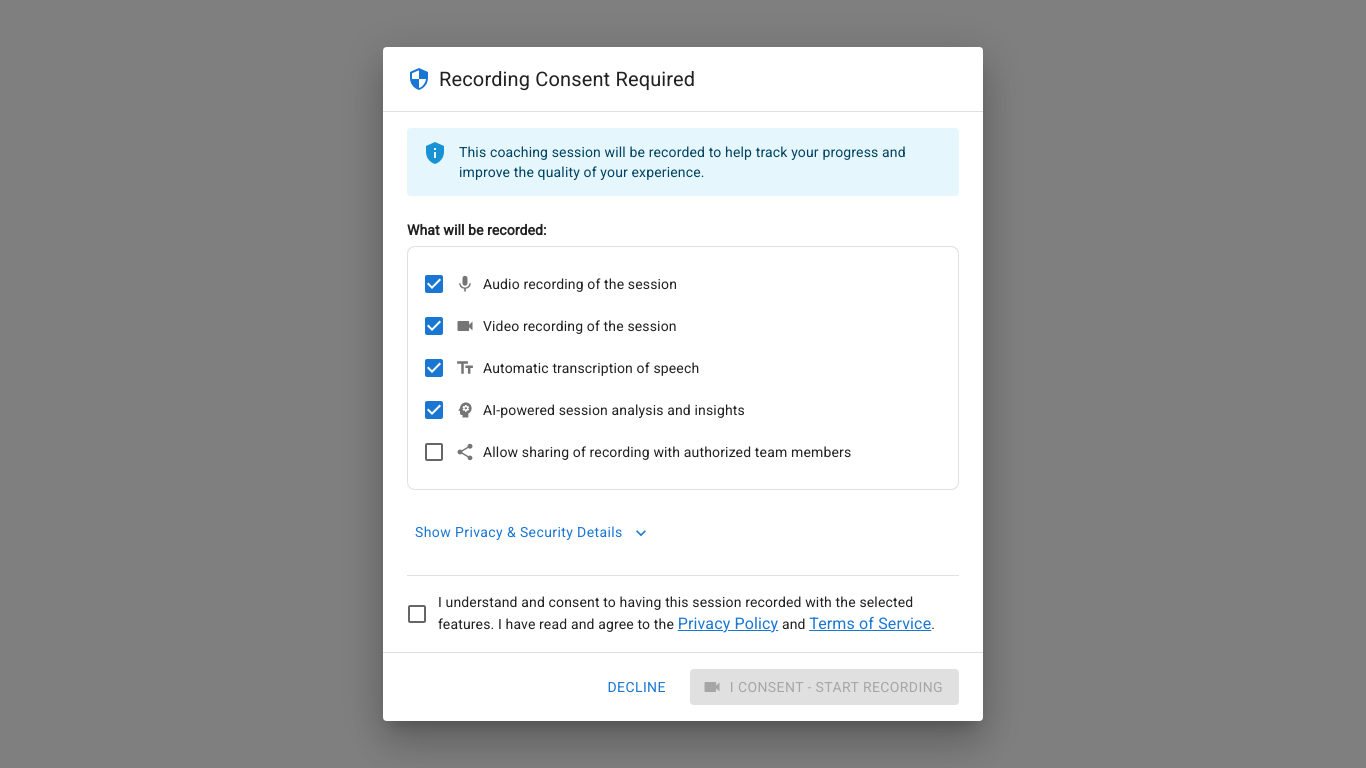
RecordingConsentDialog › consent button is disabled until agreement checkbox is checked
The image size is (1366, 768).
expect the button "I Consent - Start Recording" is disabled: met, box [690,669,959,706]
// Find and click the agreement checkbox
Click the checkbox labelled "I understand and consent". click: [670, 614]
box: [396,592,943,636]
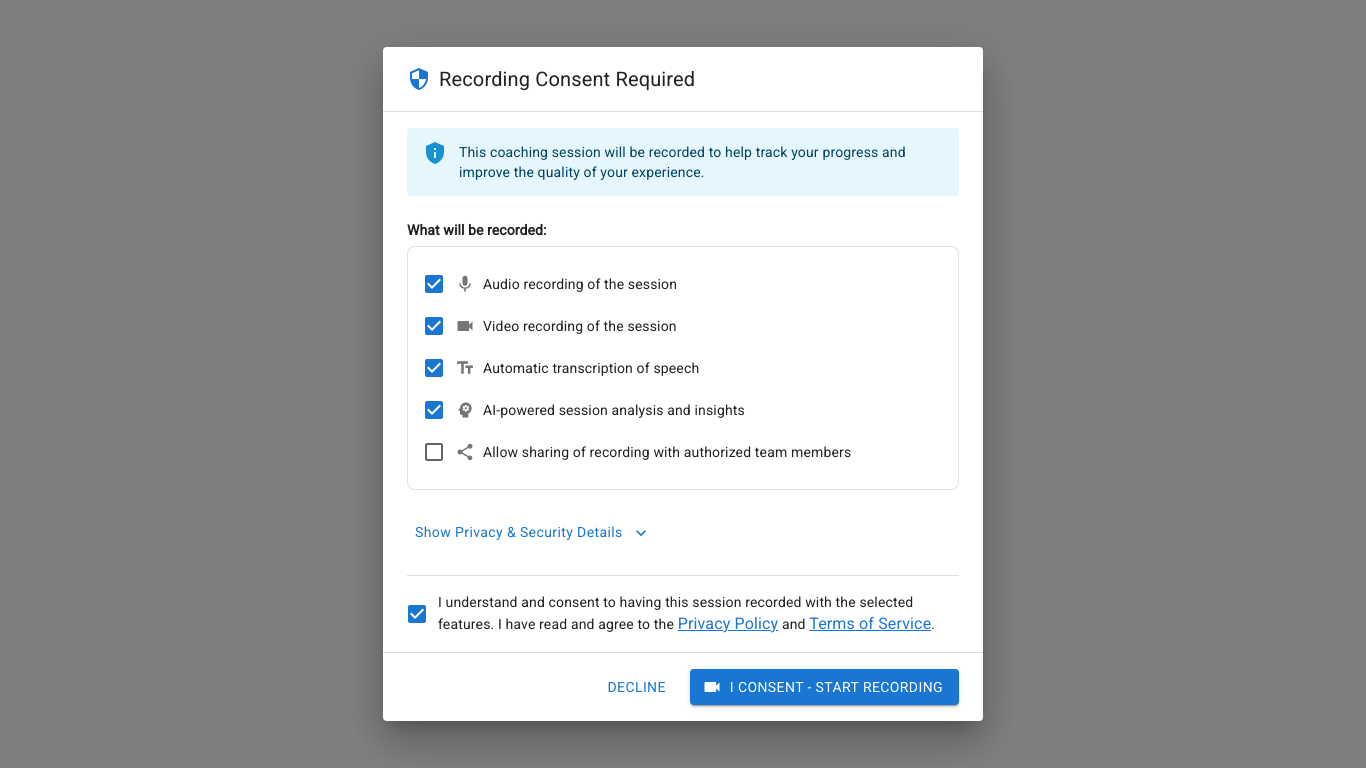
expect the button "I Consent - Start Recording" is enabled: met, box [690,669,959,706]
